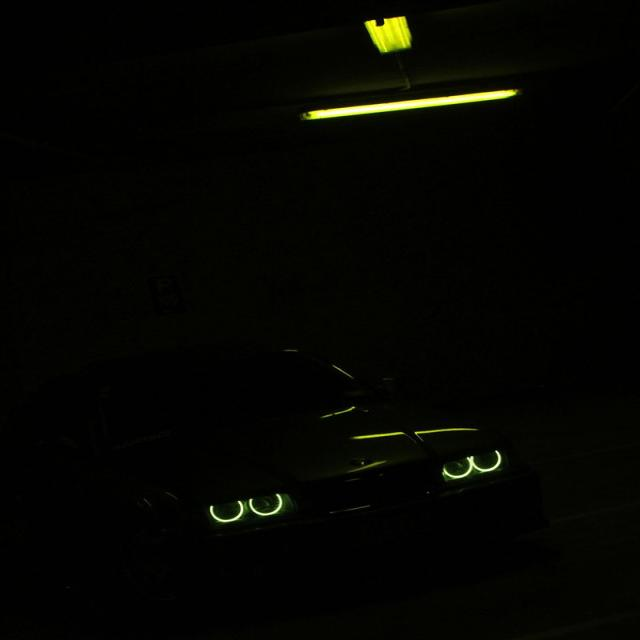Car: (70, 268, 597, 640)
